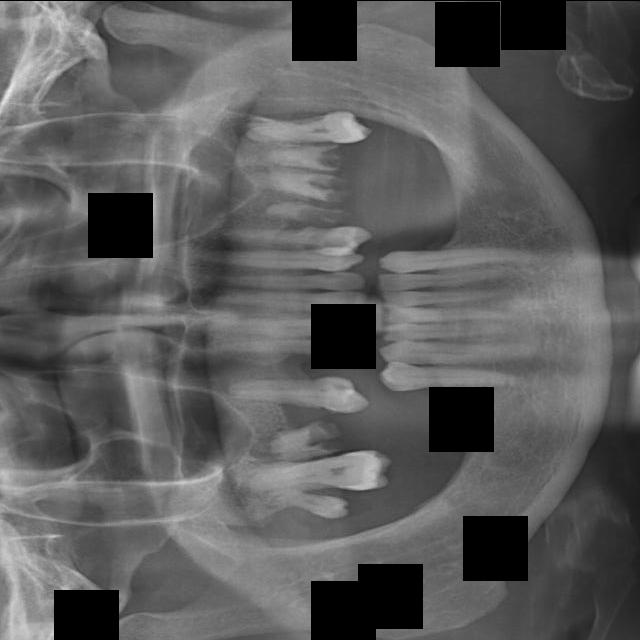3M ESPE Implant: (265, 487, 351, 520)
Amalgam filling: (244, 447, 393, 501)
BioHorizons Implant: (378, 244, 533, 274)
BioLife Implant: (375, 267, 506, 291)
Biomet 3i Implant: (379, 289, 497, 306)
Blue Sky Bio Implant: (380, 306, 503, 325)
Camlog Implant: (380, 321, 500, 340)
Caries: (219, 271, 366, 294)
Composite filling: (378, 341, 542, 364)
Cowellmedi Implant: (380, 361, 533, 390)
DENTSPLY Implant: (274, 436, 344, 464)
Euroteknika Implant: (262, 414, 344, 455)
Filling: (222, 362, 373, 416)
Hiossen Implant: (172, 243, 367, 273)
Implant: (194, 314, 374, 344)
Implant Direct: (211, 338, 366, 358)
Keystone Dental Implant: (217, 290, 367, 314)
MIS Implant: (216, 225, 372, 257)
Mandible: (261, 198, 351, 226)
Maxilla: (240, 159, 357, 206)
Megagen Implant: (262, 136, 347, 173)
Neodent Implant: (245, 109, 373, 144)
